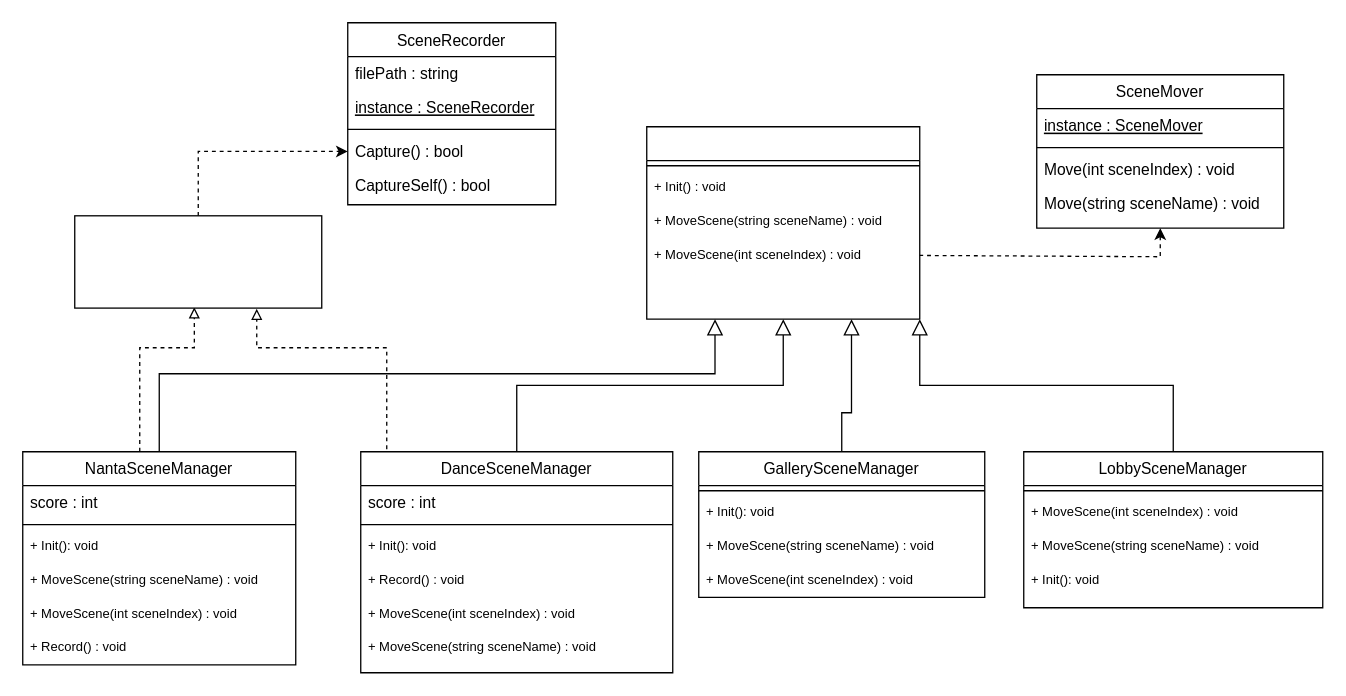
Some shapes in this 1346 by 696 pixel diagram are drawn without their labels. Here are the shapes that lost their labels. From the top down, the box of each, then its label:
(645, 125, 920, 319): AbstractSceneManager
(73, 214, 322, 308): <<Interface>> IPlayScene + Record(): void
